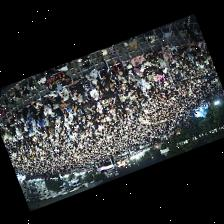person: (97, 55, 109, 80), (41, 98, 51, 118), (130, 54, 143, 68), (67, 80, 79, 95), (45, 91, 60, 103), (111, 59, 122, 75), (84, 69, 96, 83), (73, 83, 82, 101), (15, 106, 27, 119), (88, 85, 98, 100), (109, 70, 118, 86), (52, 103, 60, 121), (79, 100, 90, 113), (57, 87, 68, 100), (143, 50, 154, 63), (61, 94, 71, 108), (90, 77, 101, 89), (79, 75, 89, 88), (141, 79, 149, 94), (141, 57, 150, 70), (87, 95, 96, 108), (25, 108, 31, 127), (157, 58, 165, 72), (30, 100, 41, 110), (126, 68, 135, 80), (134, 74, 142, 87), (145, 65, 155, 75), (177, 43, 186, 54), (100, 80, 109, 91), (169, 44, 178, 55), (28, 105, 36, 117), (162, 53, 172, 62), (121, 59, 131, 68), (134, 67, 143, 77), (6, 114, 14, 125), (195, 40, 204, 49), (116, 74, 125, 83), (156, 74, 164, 84), (172, 55, 182, 63), (30, 117, 36, 130), (189, 40, 196, 51), (161, 45, 169, 54), (146, 73, 154, 82), (95, 101, 101, 112), (98, 88, 105, 96), (185, 39, 190, 50), (81, 94, 86, 104), (151, 60, 159, 66)
